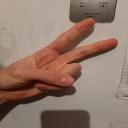PeaceSign: (8, 16, 122, 108)
